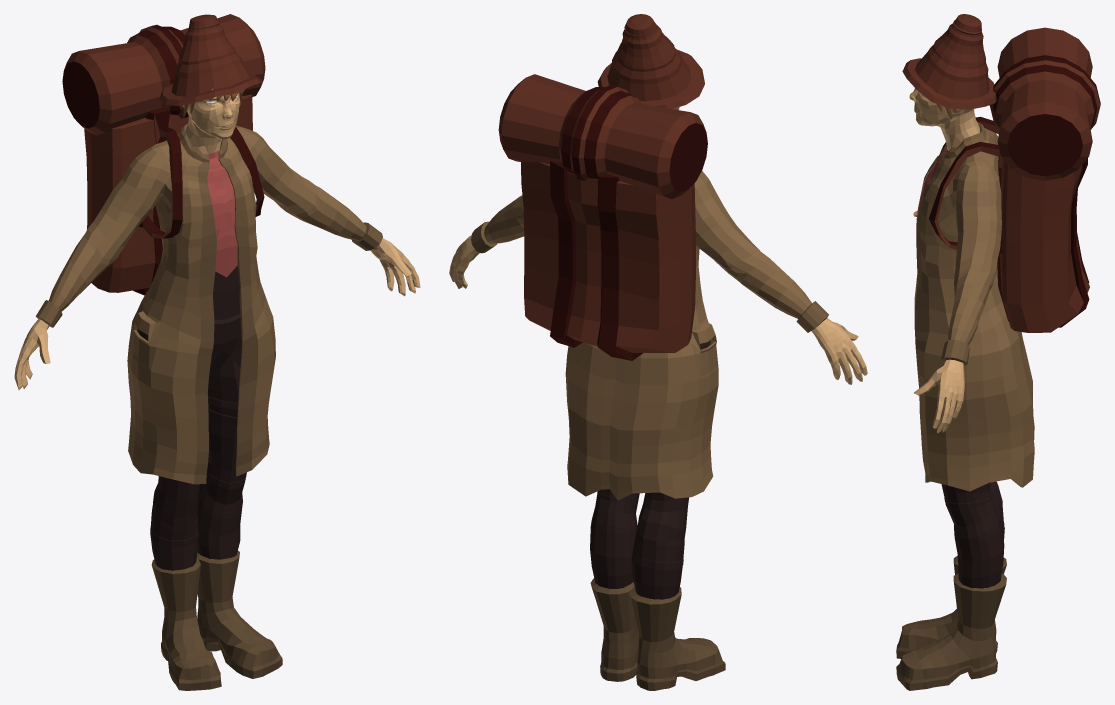
Rendered from TraderV9 HAIR MESH.fbx.
The picture shows the model from 3 angles, left to right: view 1: azimuth 30°, elevation 25°; view 2: azimuth 150°, elevation 25°; view 3: azimuth 270°, elevation 25°; orthographic projection. The views are drawn at different scales.
Parts seen in each view (by area): view 1: coat, jean, sleepingbag, MaleBody.002, backpack, Circle, MaleBody, shirt; view 2: coat, backpack, sleepingbag, jean, MaleBody.002, Circle, MaleBody; view 3: coat, backpack, sleepingbag, MaleBody.002, Circle, jean, MaleBody.
Boxes of the visible parts, x1,y1,x2,y2 form: coat: (35, 124, 382, 484); jean: (150, 349, 246, 570); sleepingbag: (62, 14, 265, 135); MaleBody.002: (151, 551, 282, 690); backpack: (84, 94, 264, 295); Circle: (159, 14, 262, 106); MaleBody: (14, 92, 420, 389); shirt: (137, 150, 241, 366); coat: (471, 171, 828, 500); backpack: (521, 160, 696, 360); sleepingbag: (498, 74, 707, 199); jean: (590, 489, 688, 599); MaleBody.002: (590, 578, 725, 690); Circle: (597, 14, 704, 108); MaleBody: (449, 107, 867, 384); coat: (914, 121, 1034, 491); backpack: (928, 116, 1089, 332); sleepingbag: (989, 27, 1100, 180); MaleBody.002: (896, 556, 1006, 690); Circle: (902, 14, 996, 109); jean: (941, 481, 1004, 588); MaleBody: (909, 88, 979, 433).
Bounding box in the file's own units: 544 × 829 × 236.
